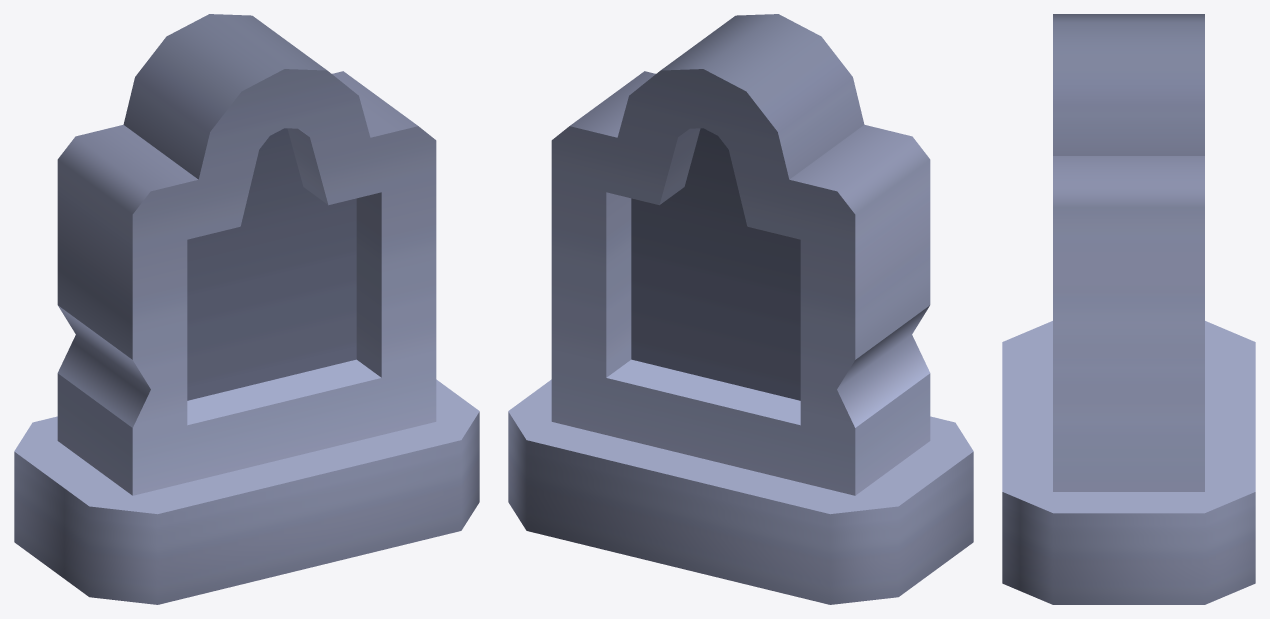
The model's file is grave.gravestone_bevel.glb.
3 renders of one model, left to right at view 1: azimuth 30°, elevation 25°; view 2: azimuth 150°, elevation 25°; view 3: azimuth 270°, elevation 25°, orthographic.
Visible parts, largest first — view 1: gravestone-bevel; view 2: gravestone-bevel; view 3: gravestone-bevel.
Part boxes in pixels (x1,y1,x2,y2): gravestone-bevel: (14,14,479,604); gravestone-bevel: (508,14,973,604); gravestone-bevel: (1002,14,1255,604).
Bounding box in the file's own units: 1.07 × 1.26 × 0.5967.
1 material, 1 textured.
